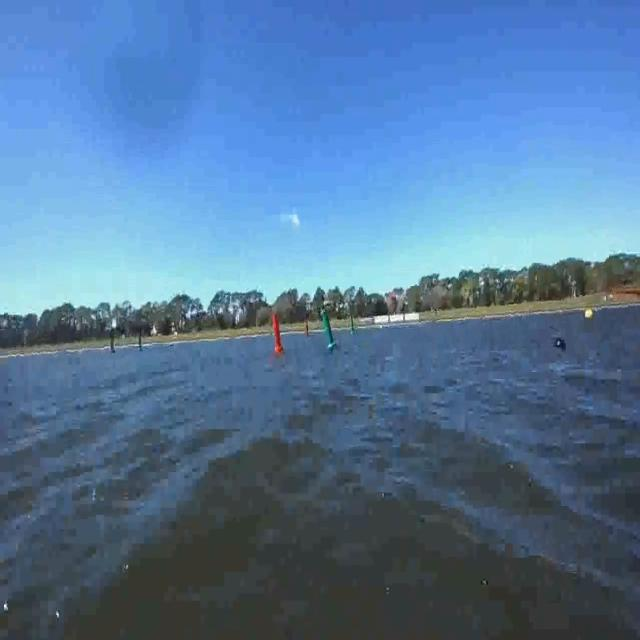black-buoy: (554, 332, 566, 352)
green-column-buoy: (320, 312, 337, 351), (349, 312, 355, 334)
red-column-buoy: (272, 313, 286, 355), (306, 320, 312, 337)
yellow-buoy: (585, 306, 595, 322)
